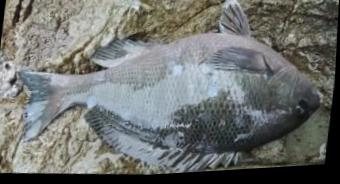fish: (20, 0, 323, 176)
